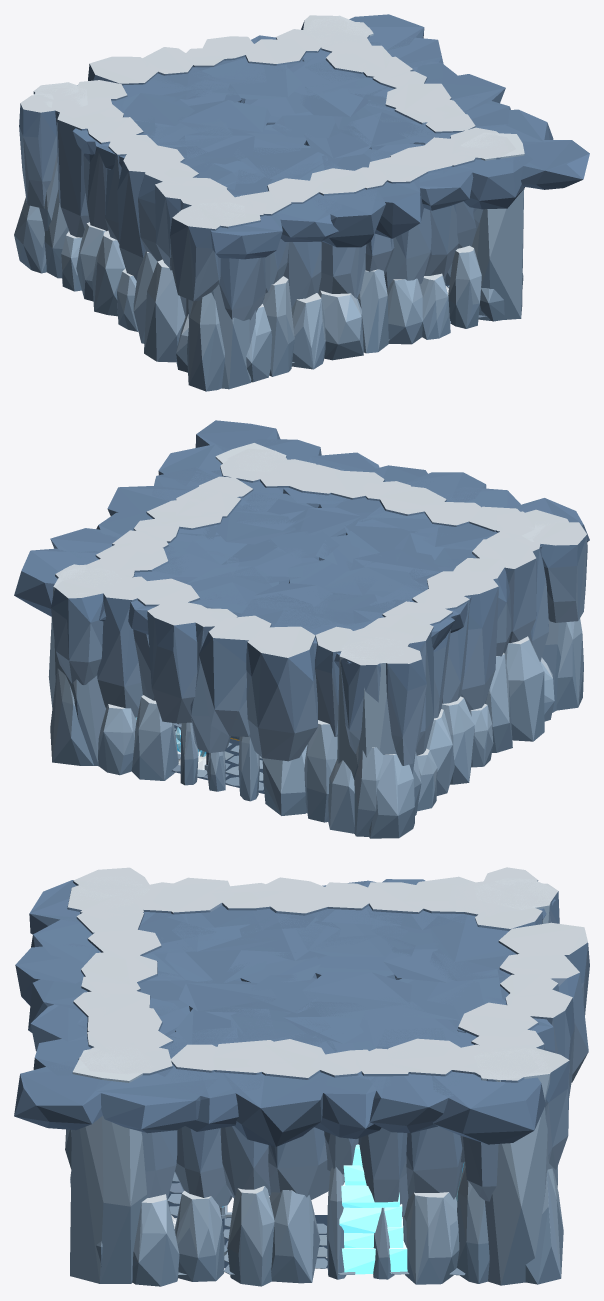
Rendered from frozen-hall.glb.
3 renders of one model, top to bottom at view 1: azimuth 30°, elevation 25°; view 2: azimuth 150°, elevation 25°; view 3: azimuth 270°, elevation 25°, orthographic. The views are drawn at different scales.
Parts seen in each view (by area): view 1: Batched static valley; view 2: Batched static valley; view 3: Batched static valley.
Boxes of the visible parts, x1,y1,x2,y2 form: Batched static valley: (14,14,589,391); Batched static valley: (14,420,589,838); Batched static valley: (14,867,589,1286).
Bounding box in the file's own units: 53.98 × 21.6 × 54.5.
Materials: 10 (2 with a texture image).
